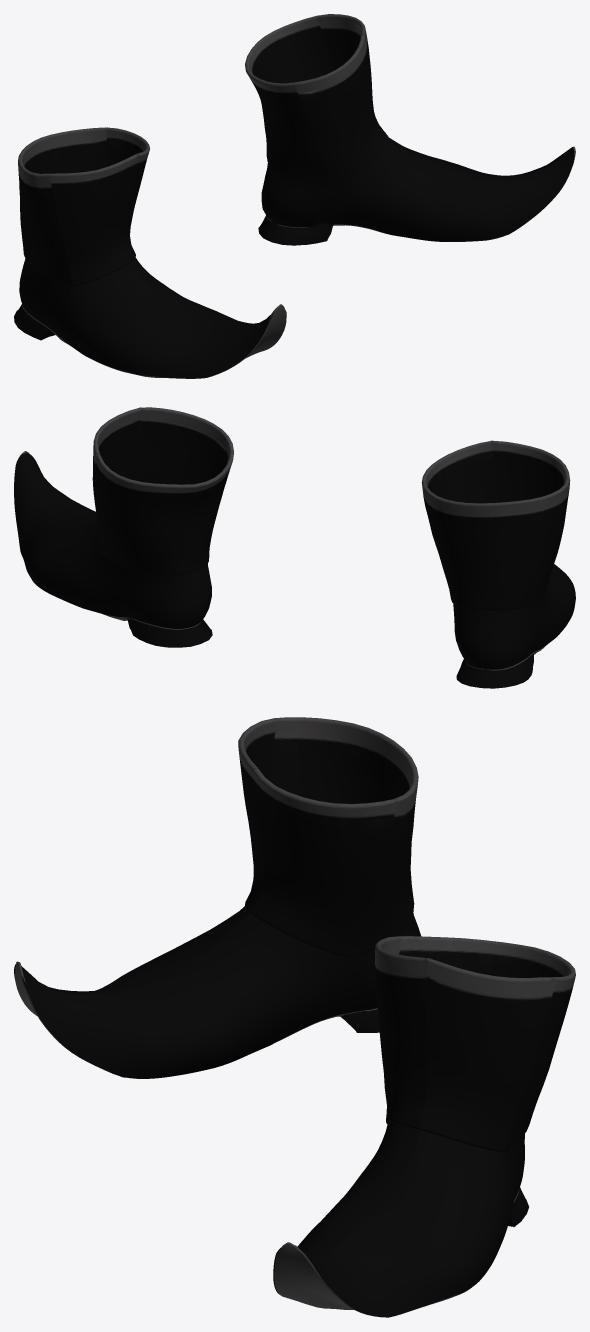
The model's file is COSSACK_BOOTS_3#20.glb.
3 views of the same model, one above another, from view 1: azimuth 30°, elevation 25°; view 2: azimuth 150°, elevation 25°; view 3: azimuth 270°, elevation 25° (orthographic). The views are drawn at different scales.
Visible parts, largest first — view 1: shoes_4_lev_kazak; view 2: shoes_4_lev_kazak; view 3: shoes_4_lev_kazak.
Part boxes in pixels (left/top/right/bottom): shoes_4_lev_kazak: left=14, top=14, right=575, bottom=378; shoes_4_lev_kazak: left=14, top=407, right=575, bottom=688; shoes_4_lev_kazak: left=14, top=717, right=575, bottom=1317.
Bounding box in the file's own units: 5.12 × 1.79 × 3.19.
1 material, 1 textured.
